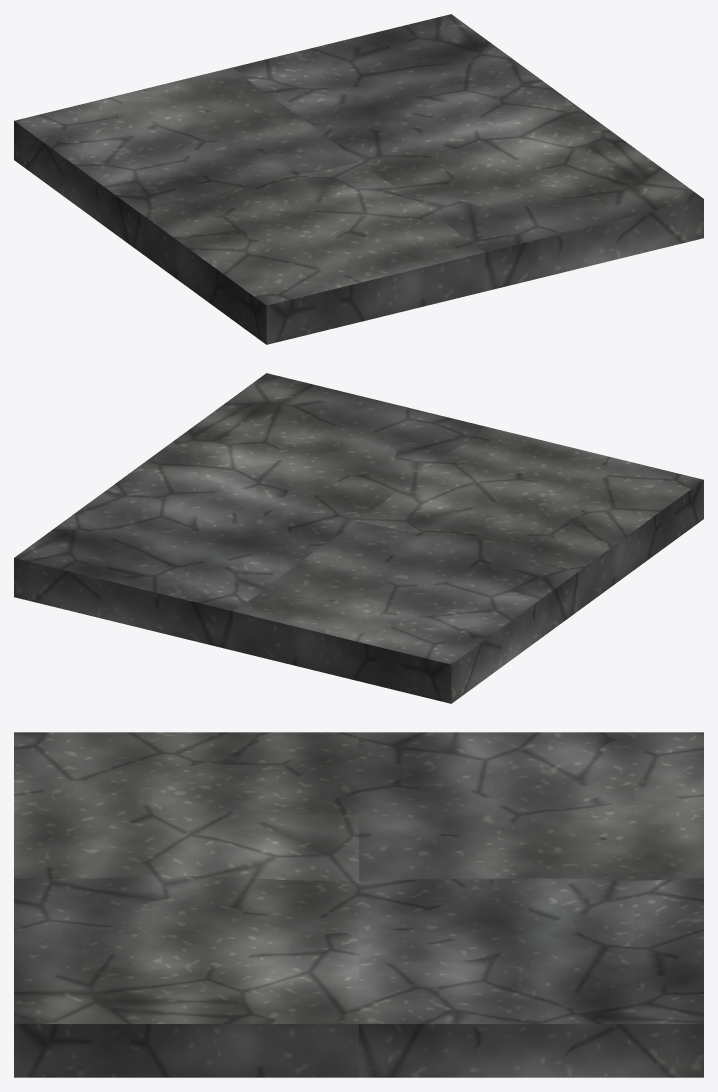
The model's file is kit_floor_cave.glb.
3 views of the same model, one above another, from view 1: azimuth 30°, elevation 25°; view 2: azimuth 150°, elevation 25°; view 3: azimuth 270°, elevation 25° (orthographic). The views are drawn at different scales.
Visible parts, largest first — view 1: kit_floor_cave; view 2: kit_floor_cave; view 3: kit_floor_cave.
Part boxes in pixels (x1,y1,x2,y2): kit_floor_cave: (14,14,703,344); kit_floor_cave: (14,373,703,703); kit_floor_cave: (14,732,703,1077).
Bounding box in the file's own units: 2.8 × 0.27 × 2.8.
Materials: 1 (1 with a texture image).
